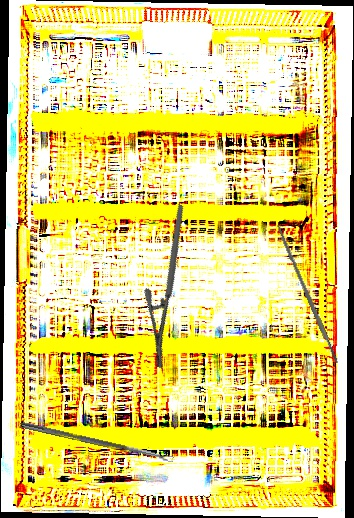Needle Holder: (108, 203, 233, 370)
Scalpel Handle: (274, 223, 340, 365)
Surgical Spoon: (19, 421, 174, 464)
